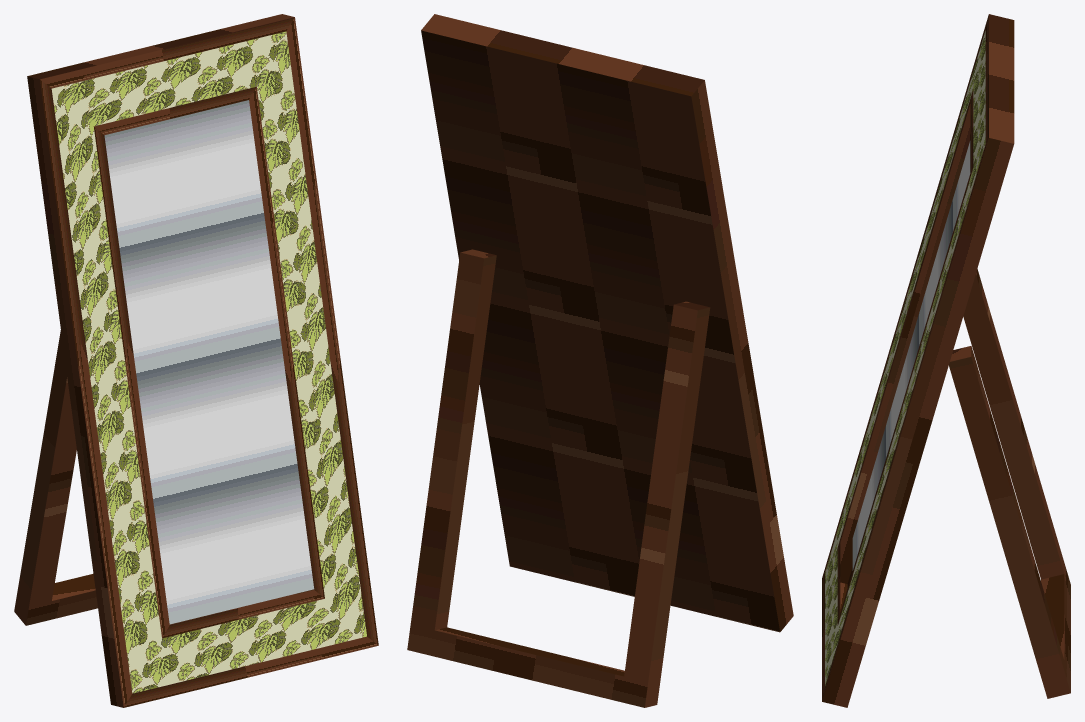
3 views of the same model, side by side, from view 1: azimuth 30°, elevation 25°; view 2: azimuth 150°, elevation 25°; view 3: azimuth 270°, elevation 25° (orthographic). The views are drawn at different scales.
Parts seen in each view (by area): view 1: 3917kg3_gs19; view 2: 3917kg3_gs19; view 3: 3917kg3_gs19.
Boxes of the visible parts, bbox=[...] form: 3917kg3_gs19: bbox=[14, 14, 378, 707]; 3917kg3_gs19: bbox=[407, 14, 793, 707]; 3917kg3_gs19: bbox=[822, 14, 1070, 707].
Size of the model in its own units: 0.8452 by 1.82 by 0.7178.
3 materials, 3 textured.
